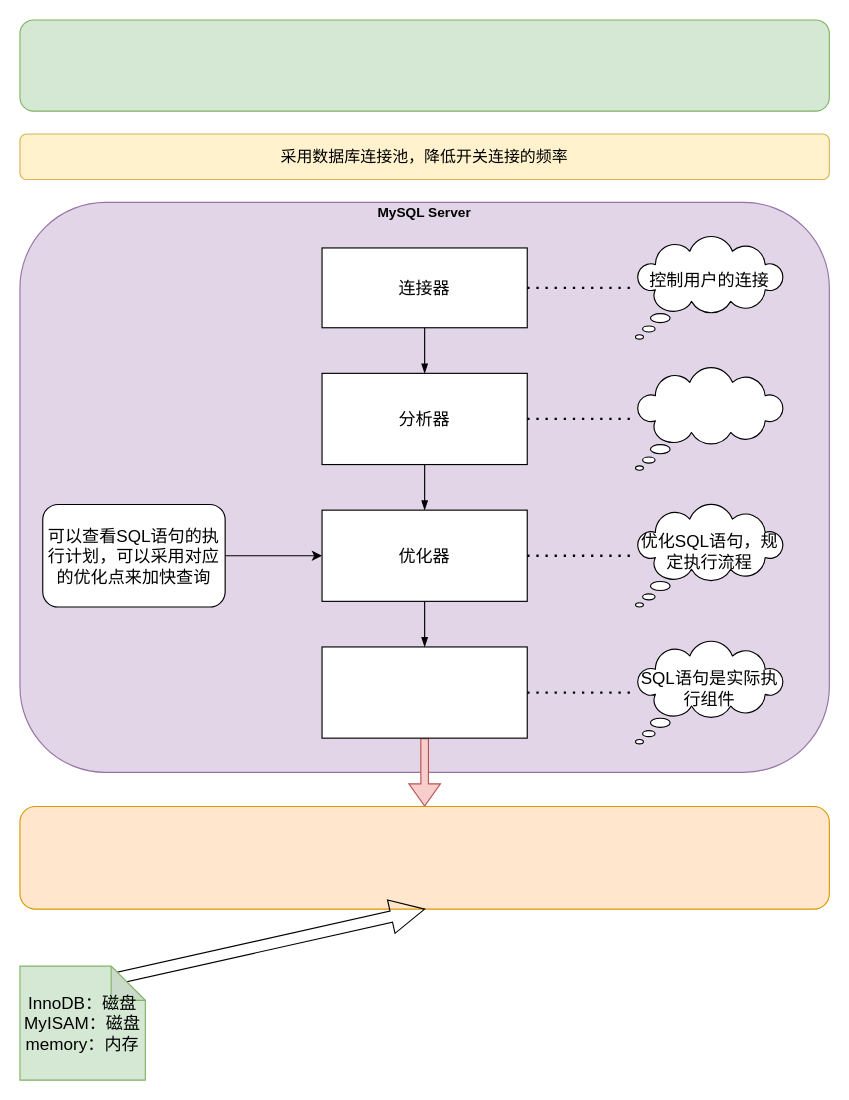
This 849x1100 diagram has some shape labels left out. Here are the shapes that lost their labels. From the top down, the centre of each, then its label:
At pixel 424 65: "Client：向数据库发送请求".
At pixel 709 418: "词法分析 语法分析".
At pixel 424 692: "执行器".
At pixel 424 857: "存储引擎，不同的存放位置，不同的文件格式".
